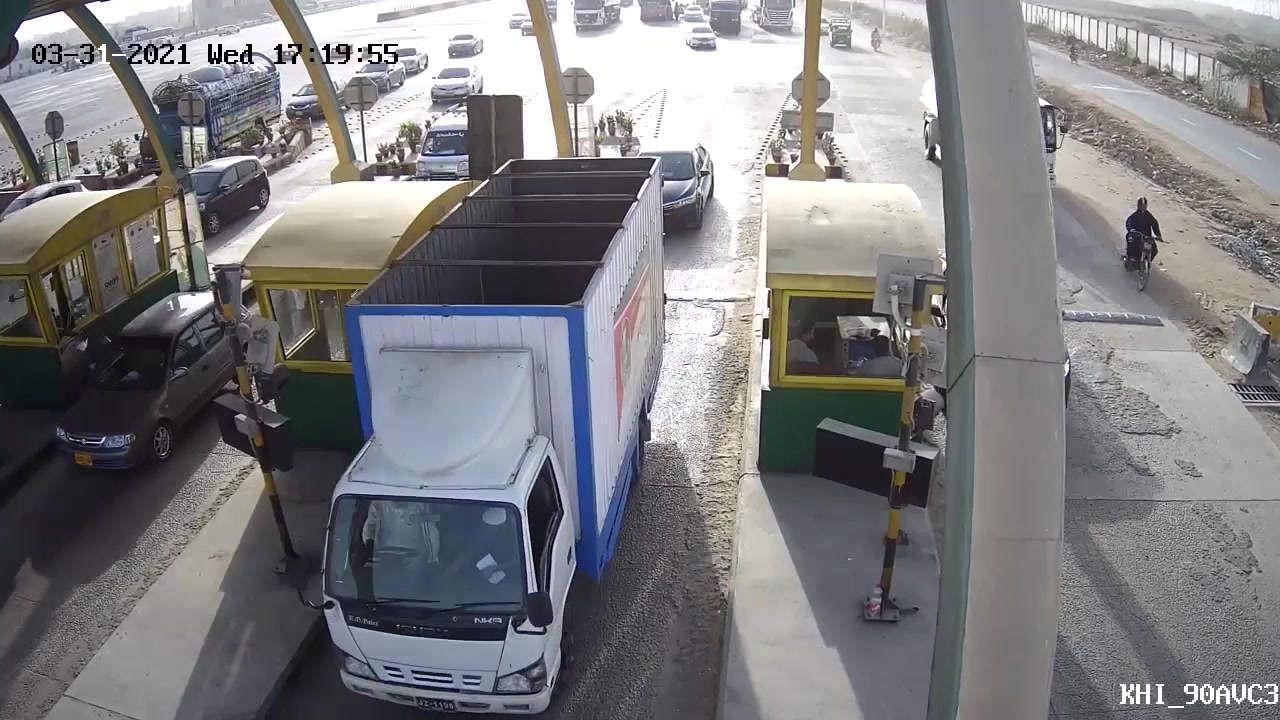F5: (311, 159, 669, 711)
